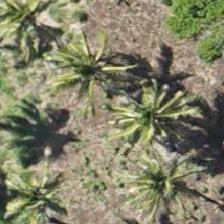coconut_tree: (106, 70, 196, 160), (43, 27, 133, 117), (121, 131, 211, 221), (0, 0, 74, 61), (0, 155, 64, 223)
